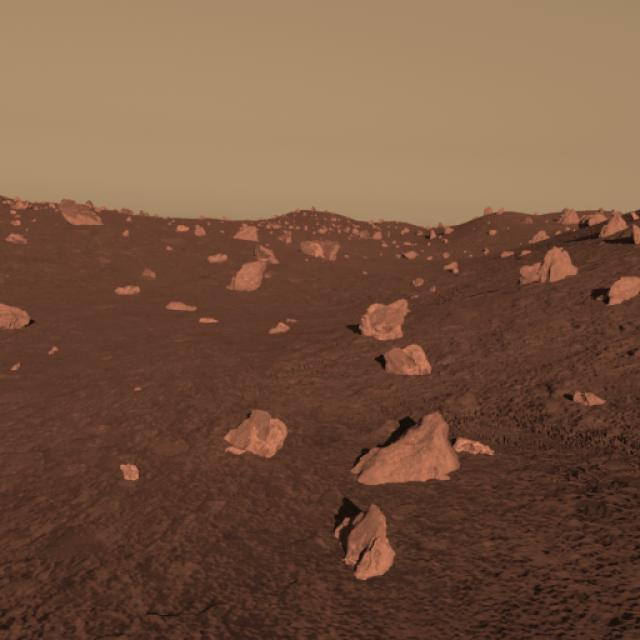rock: (353, 413, 465, 487), (335, 494, 393, 582), (221, 406, 293, 462), (377, 339, 439, 385), (518, 245, 582, 289), (358, 296, 414, 340)
